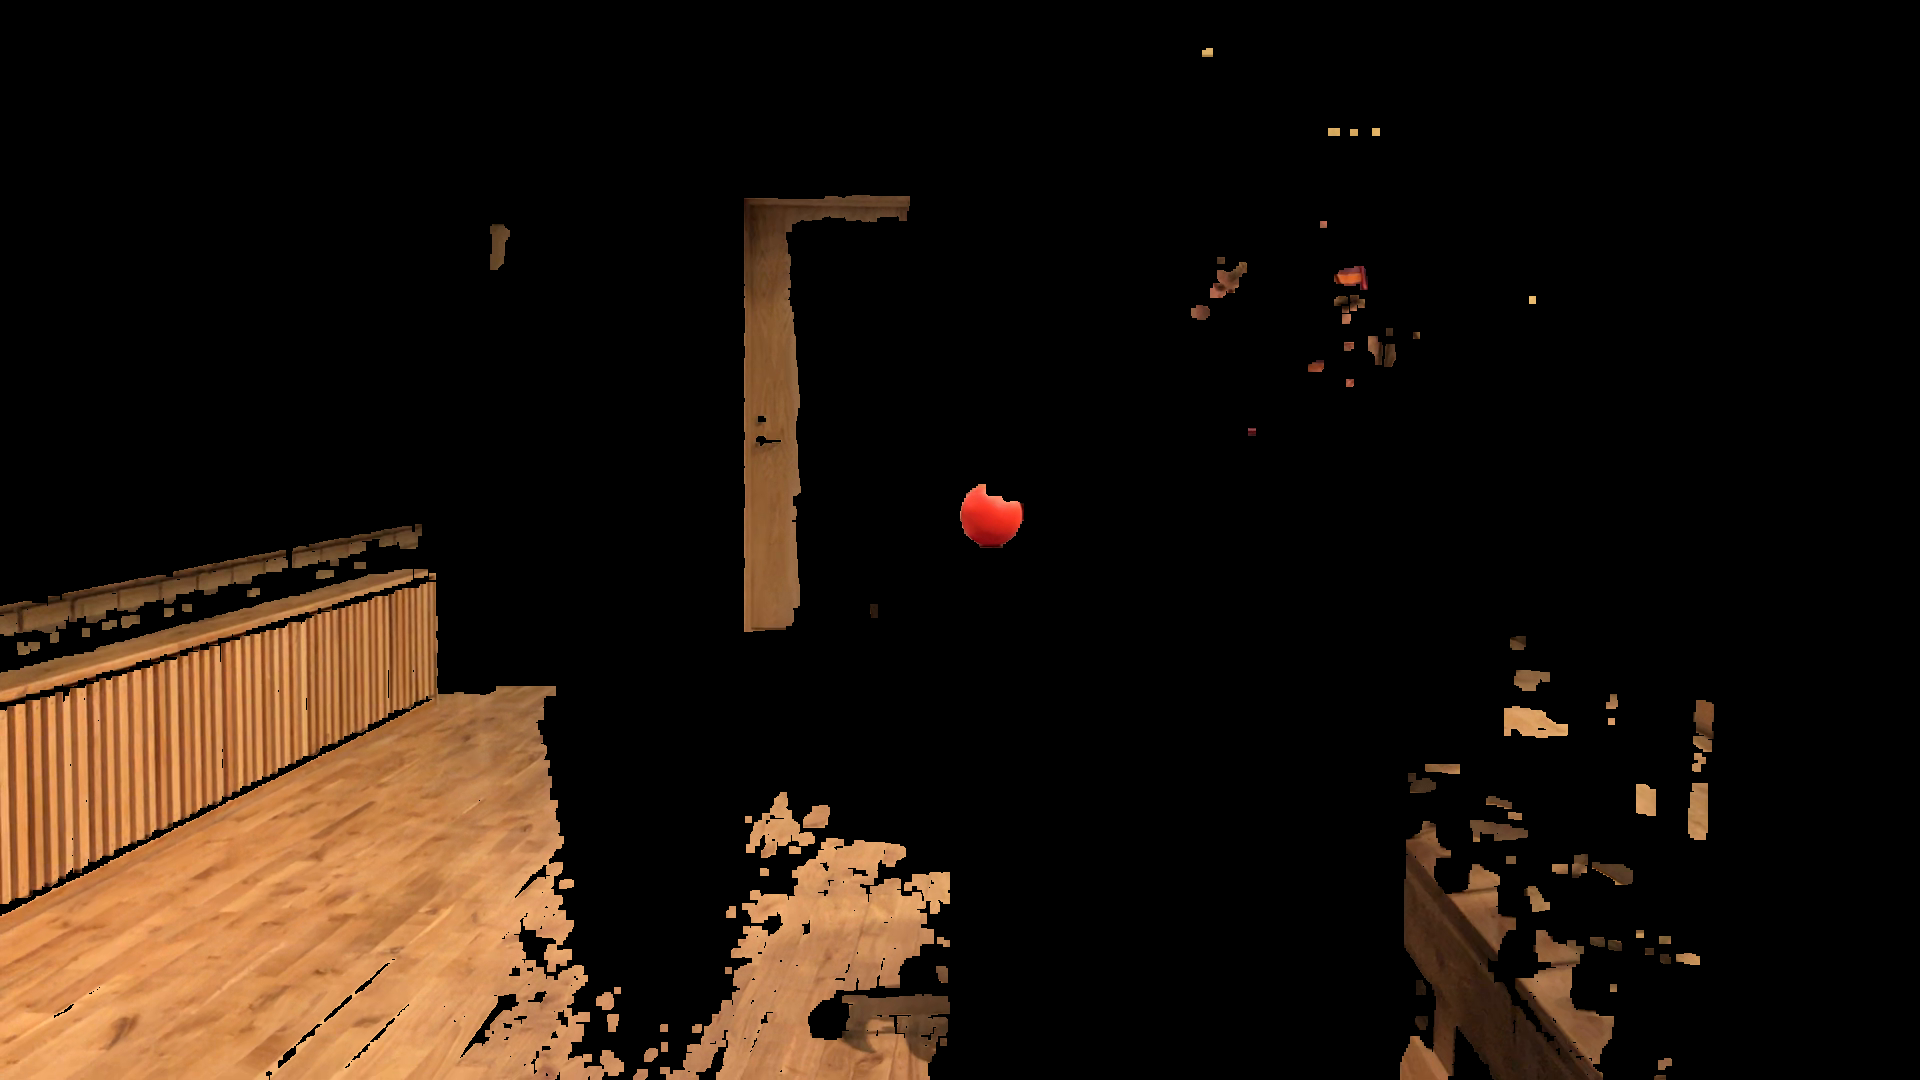Ball: (957, 476, 1030, 553)
